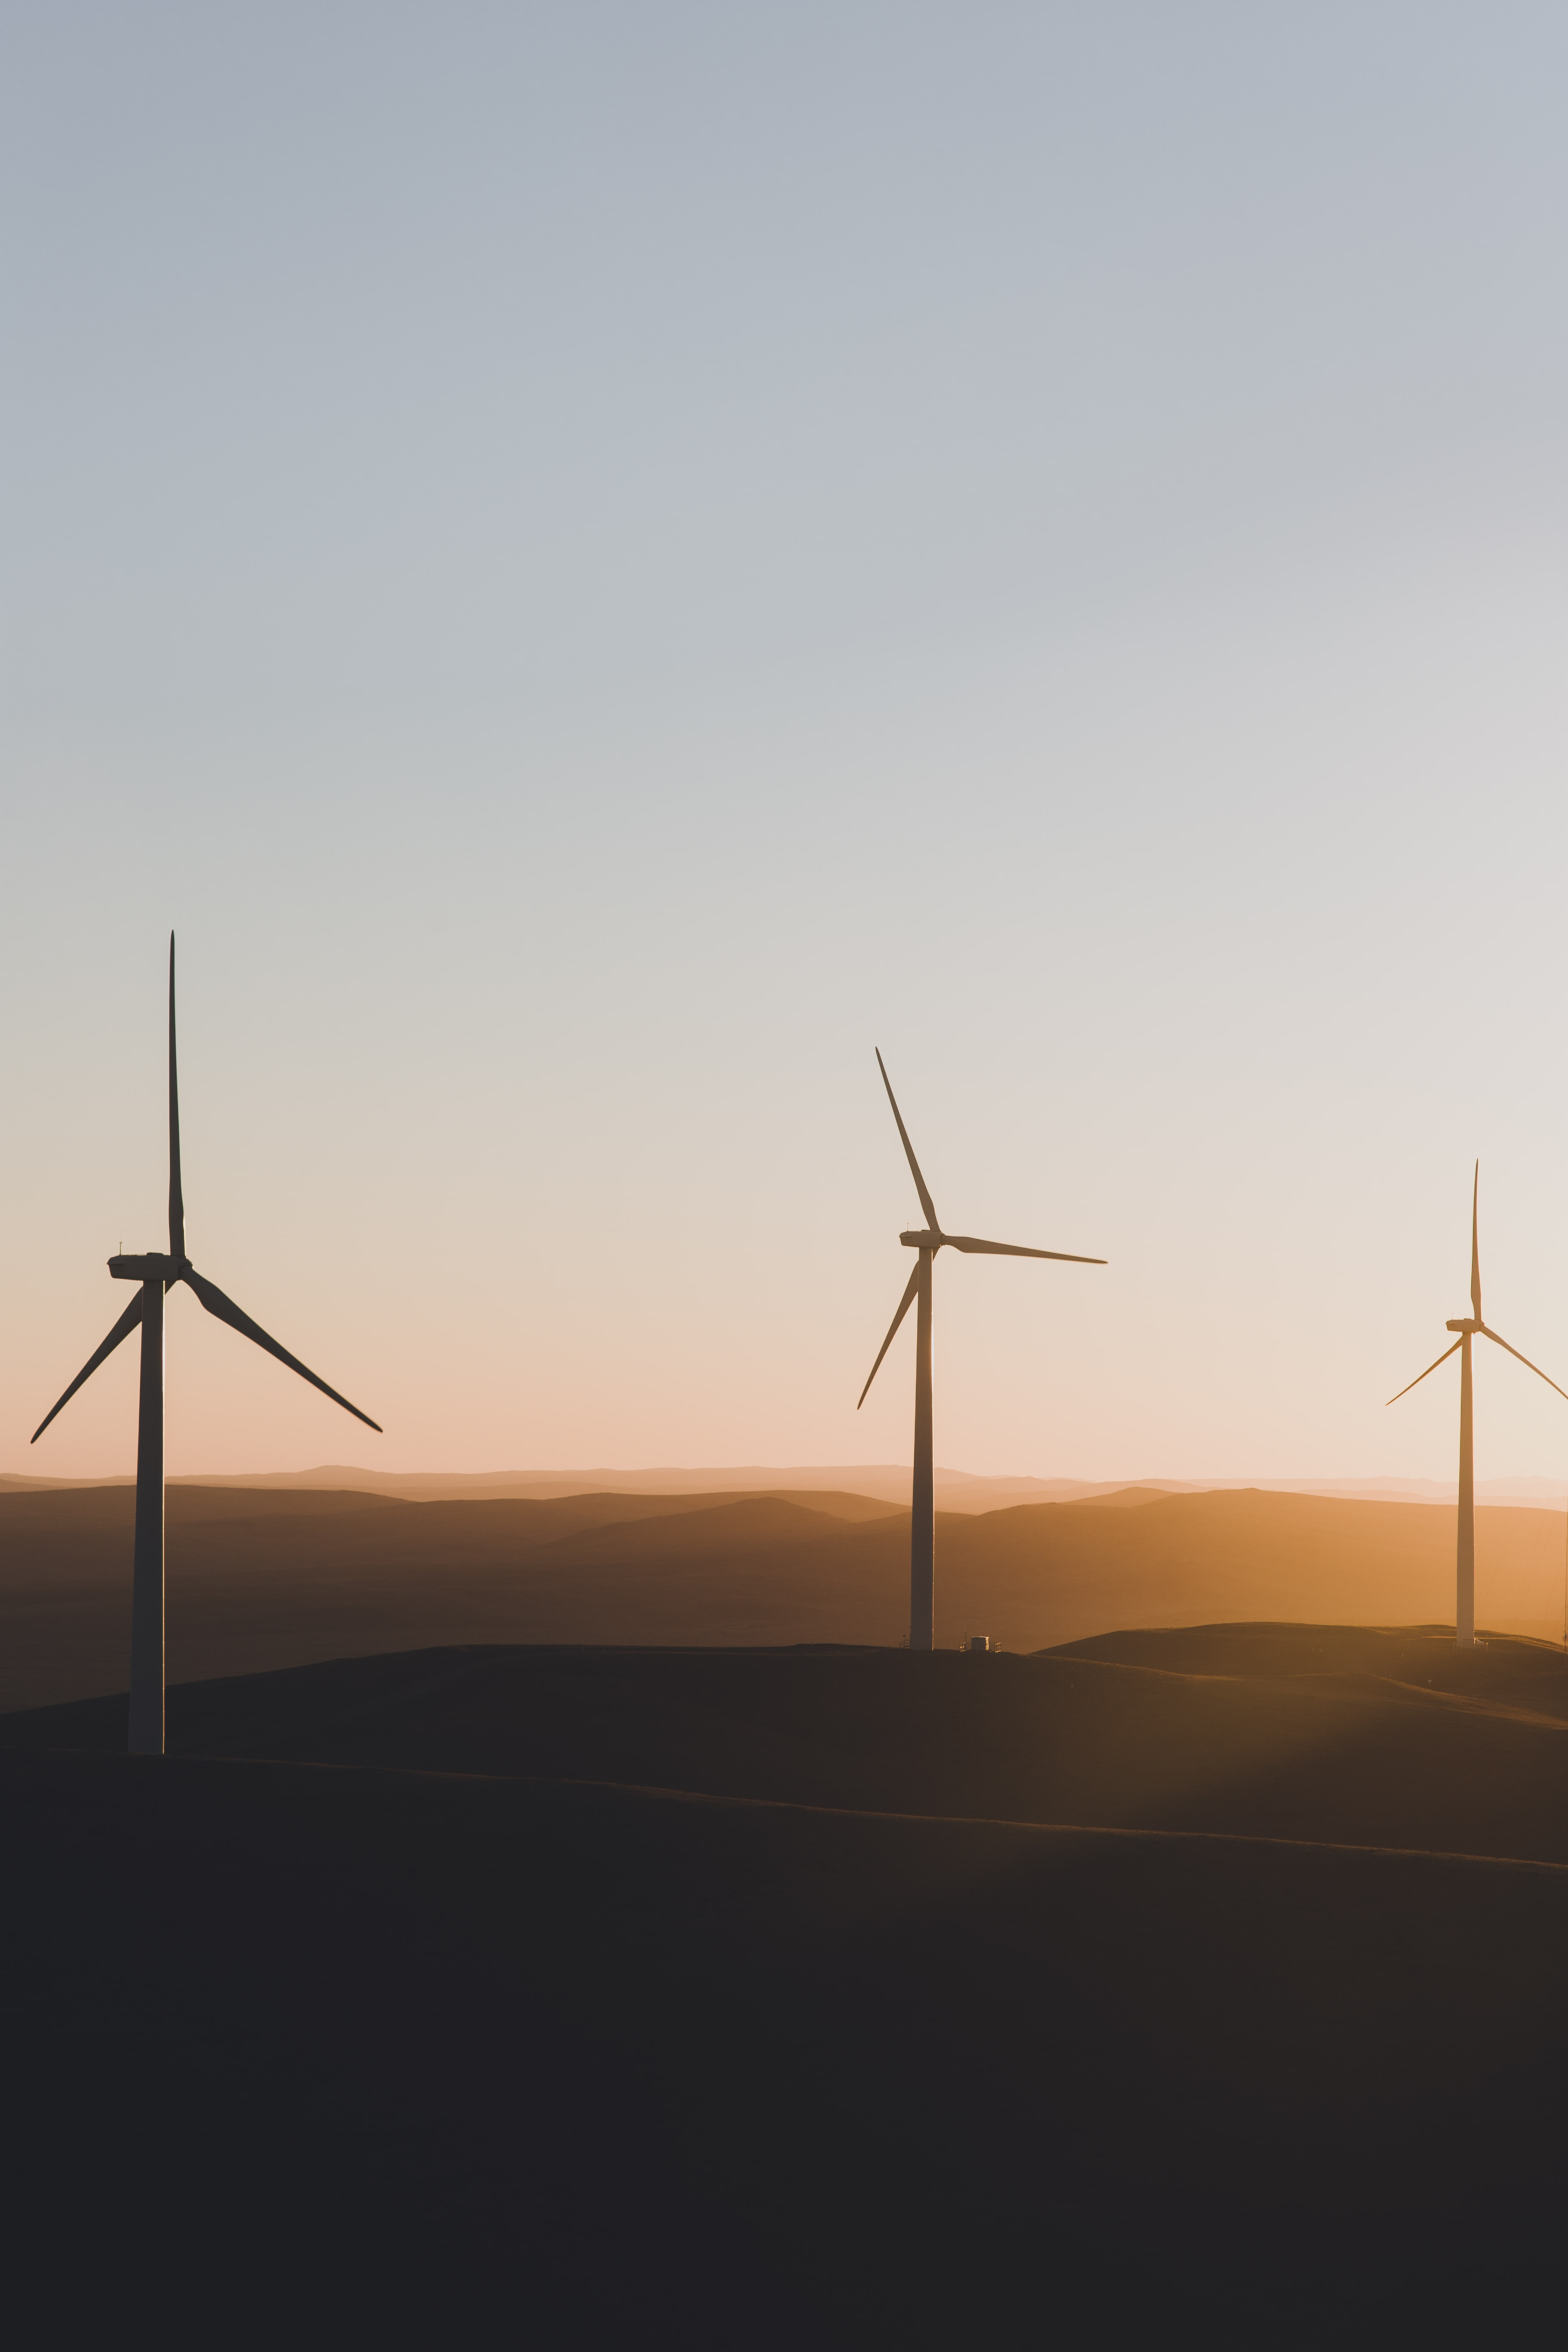working: (35, 920, 397, 1468), (822, 1045, 1109, 1438)
